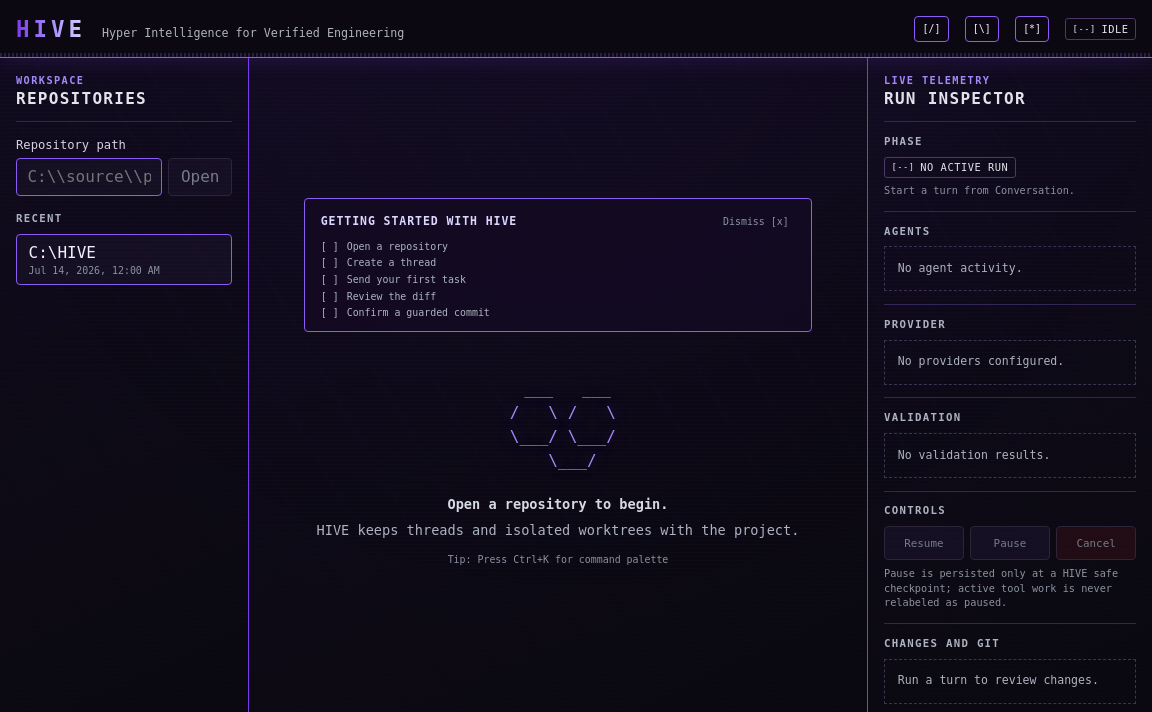
Scenario: HIVE desktop cockpit › closes a consumed Git confirmation after failure and restores focus for an accessible error
The width and height of the screenshot is (1152, 712).
Click the button "C:\\HIVE Jul 14, 2026, 12:00 AM".
click(124, 259)  # box [16,234,232,284]
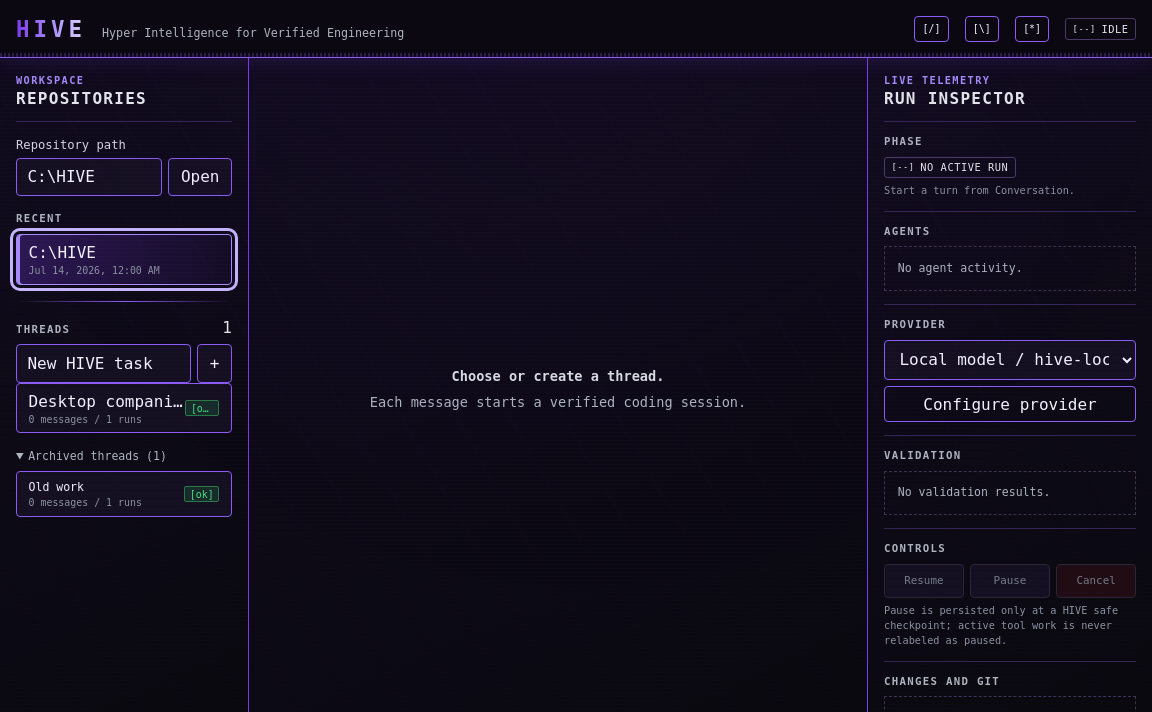
Expected: the button "Desktop companion 0 messages / 1 runs [ok]" is shown
Click the button "Desktop companion 0 messages / 1 runs [ok]".
click(124, 408)  # box [16,383,232,433]
(page scrolled)
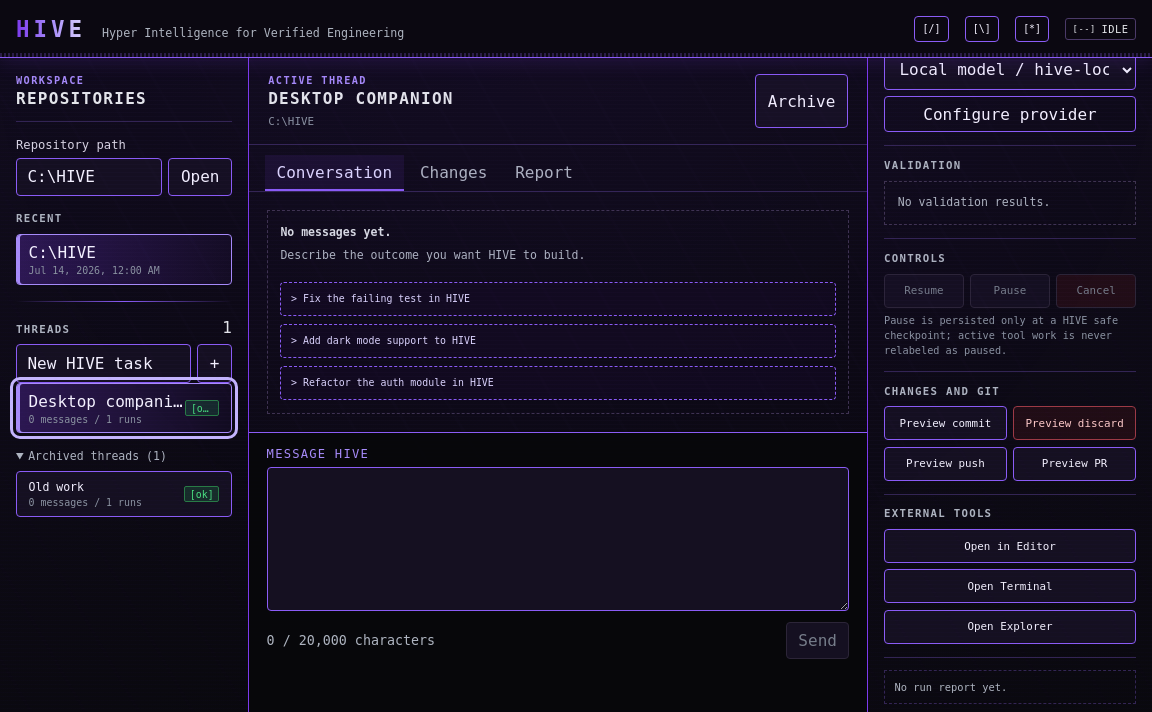
Click the button "Preview commit".
click(945, 423)  # box [884,406,1007,440]
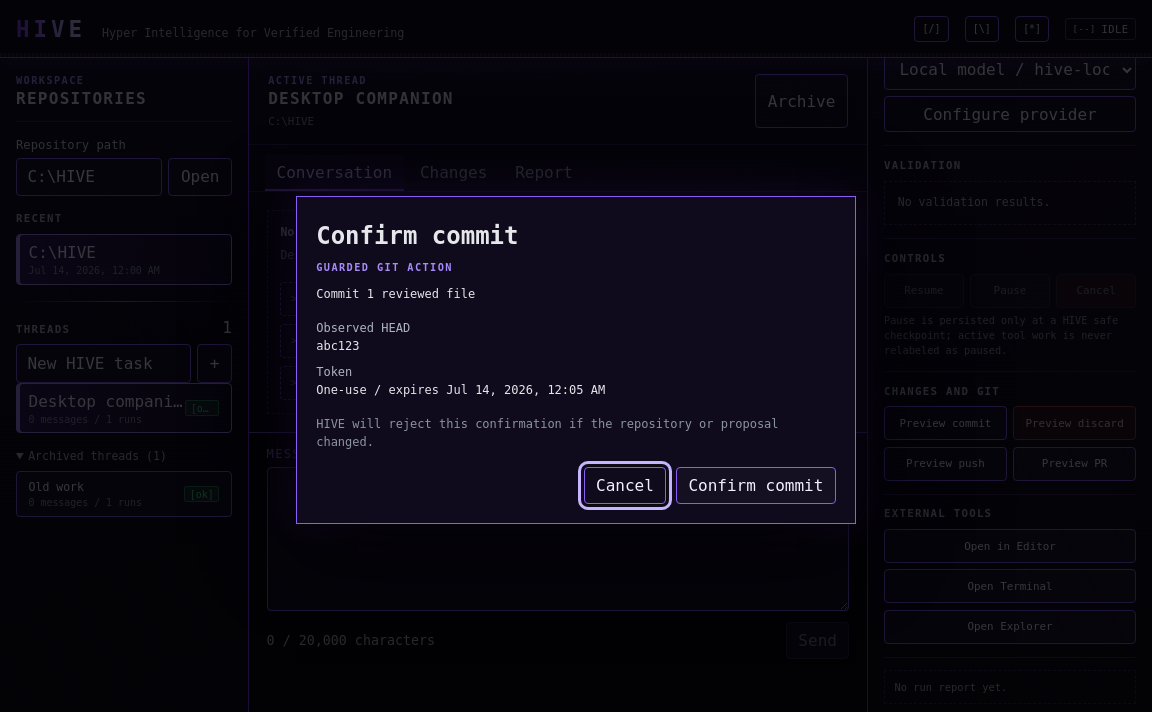
Click the button "Confirm commit".
click(756, 485)  # box [676,467,836,504]
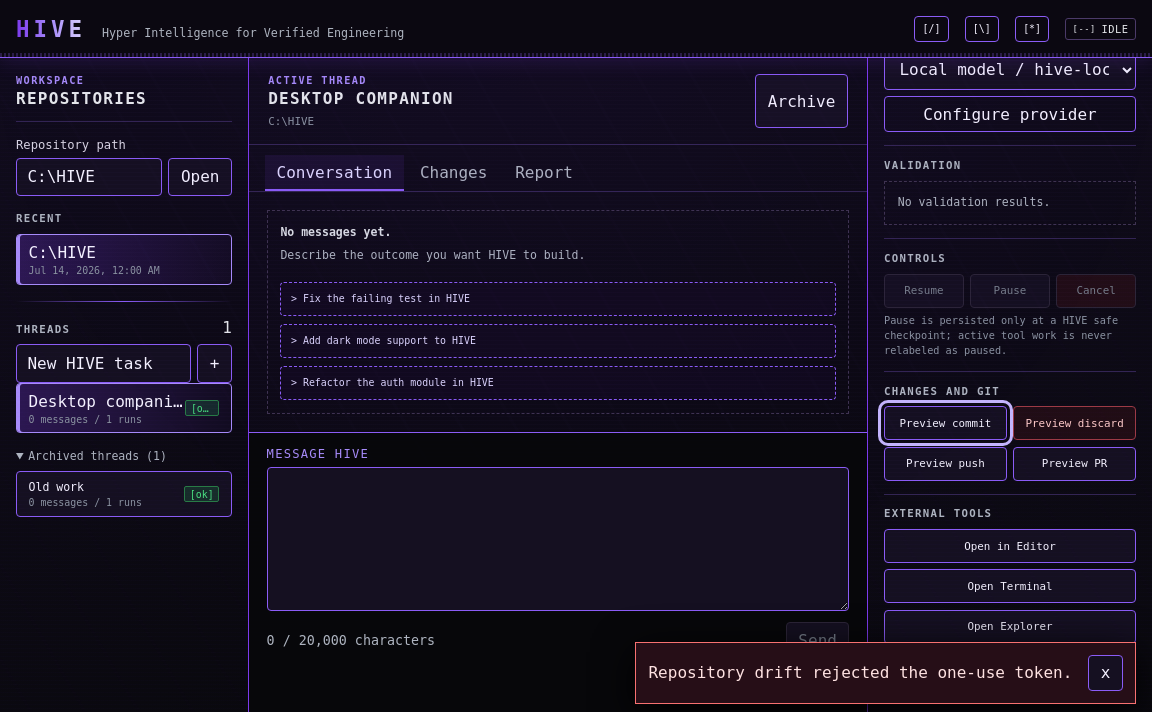
Expected: the message shows "Repository drift", [648,663,1072,682]
Expected: the dialog is gone
